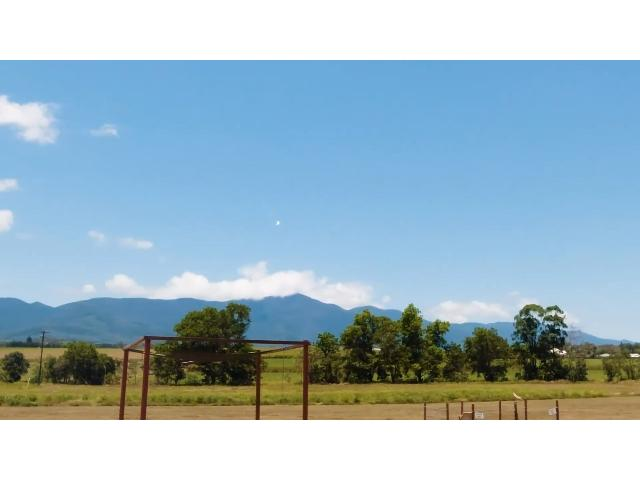Anti-Drone: (270, 216, 288, 228)
